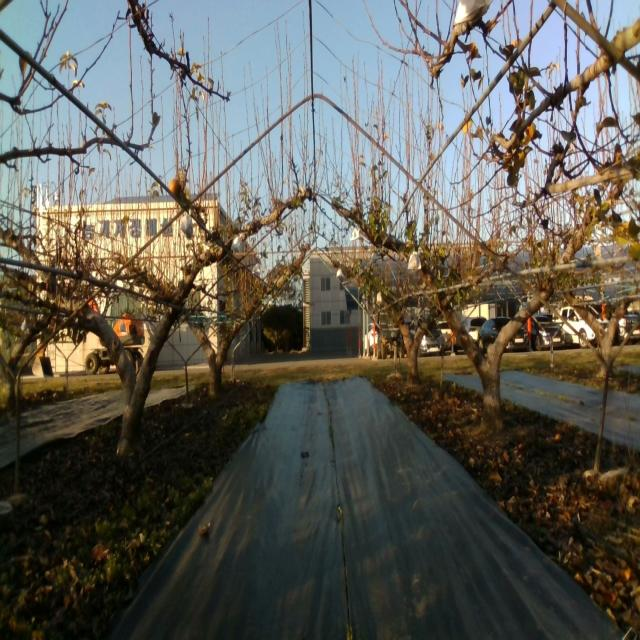pearbags: (179, 209, 194, 239), (408, 246, 422, 270), (230, 232, 243, 252)
